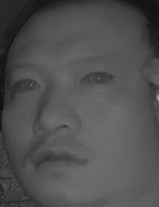eye: (80, 67, 114, 88), (11, 75, 43, 94)
mouth: (28, 140, 88, 176)
